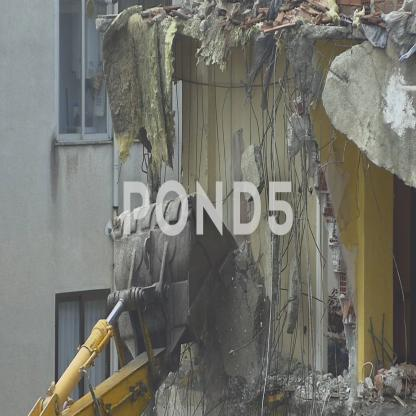rebar: (168, 25, 321, 379)
